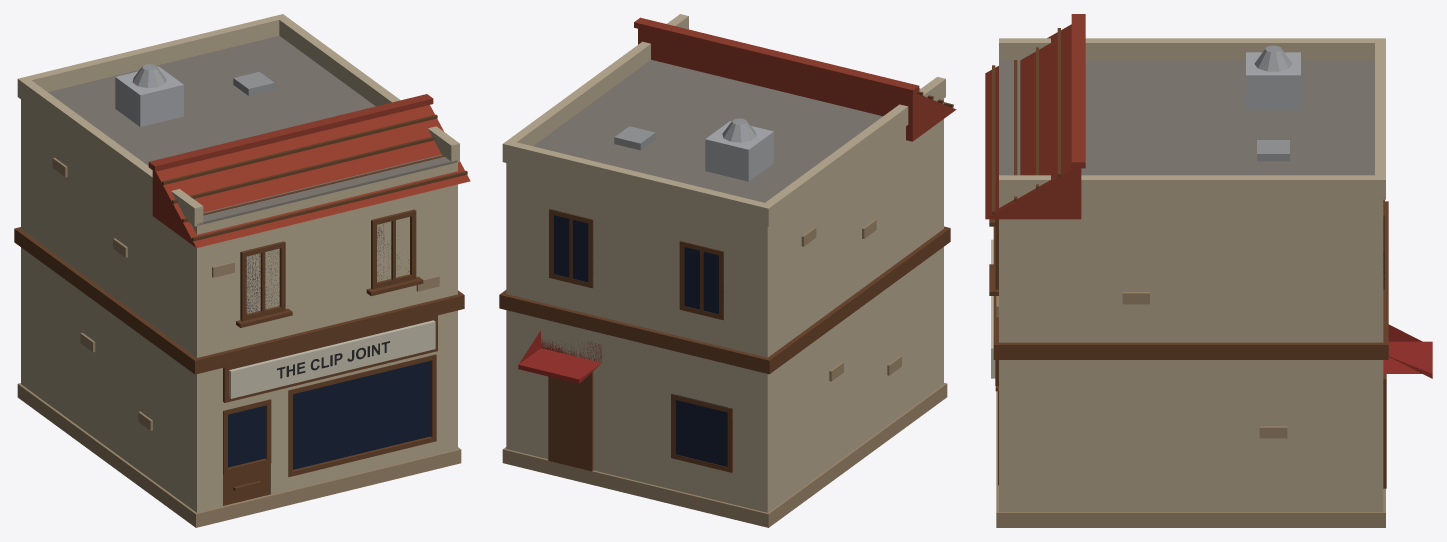
Rendered from barbier_batiment.glb.
3 views of the same model, side by side, from view 1: azimuth 30°, elevation 25°; view 2: azimuth 150°, elevation 25°; view 3: azimuth 270°, elevation 25° (orthographic). The views are drawn at different scales.
Visible parts, largest first — view 1: barbier_batiment; view 2: barbier_batiment; view 3: barbier_batiment.
Boxes of the visible parts, bbox=[...] form: barbier_batiment: bbox=[14, 14, 470, 527]; barbier_batiment: bbox=[499, 14, 956, 527]; barbier_batiment: bbox=[985, 14, 1432, 527].
Size of the model in its own units: 6.4 by 7.65 by 8.15.
